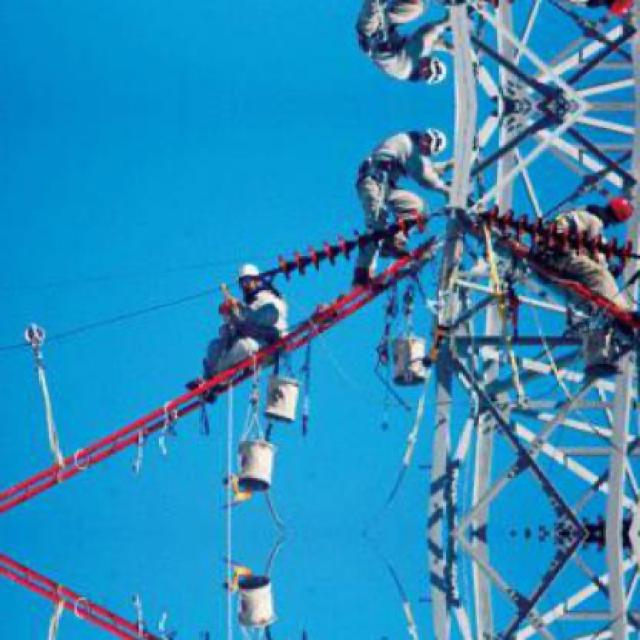con casco: (393, 105, 451, 189), (216, 262, 262, 304)
